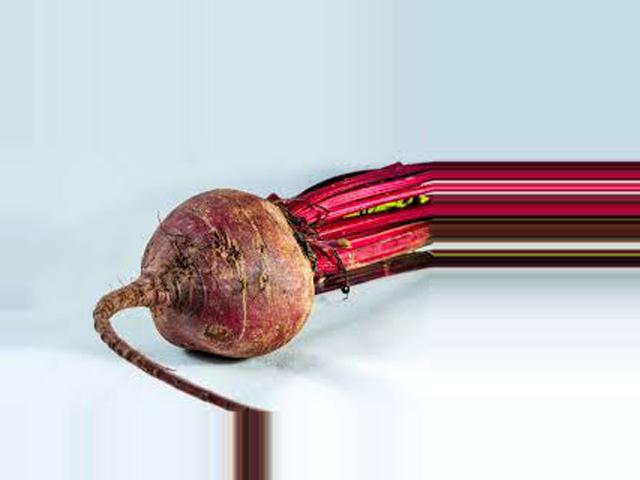beet: (93, 160, 435, 410)
